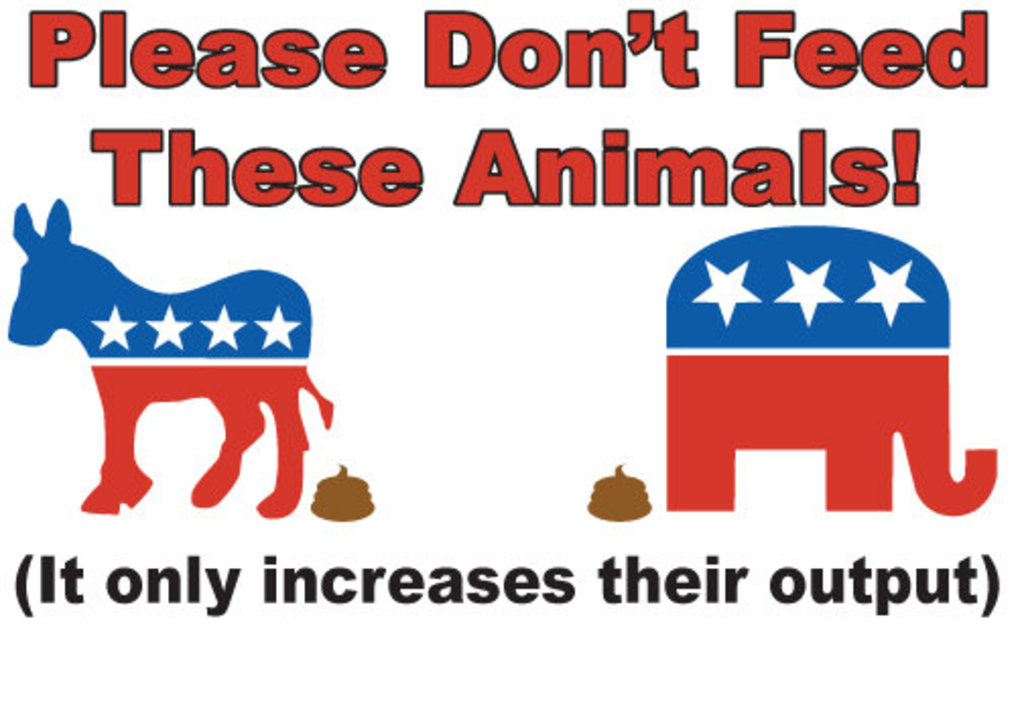Animal: (3, 198, 330, 521)
